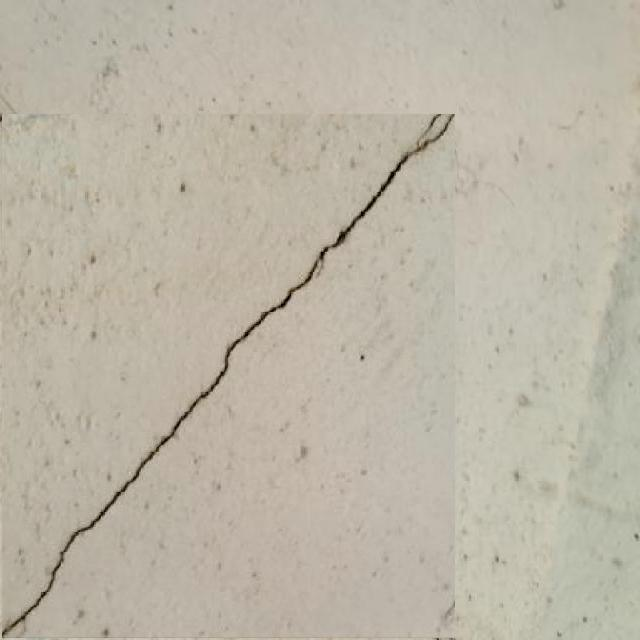diagonal crack: (3, 115, 454, 637)
